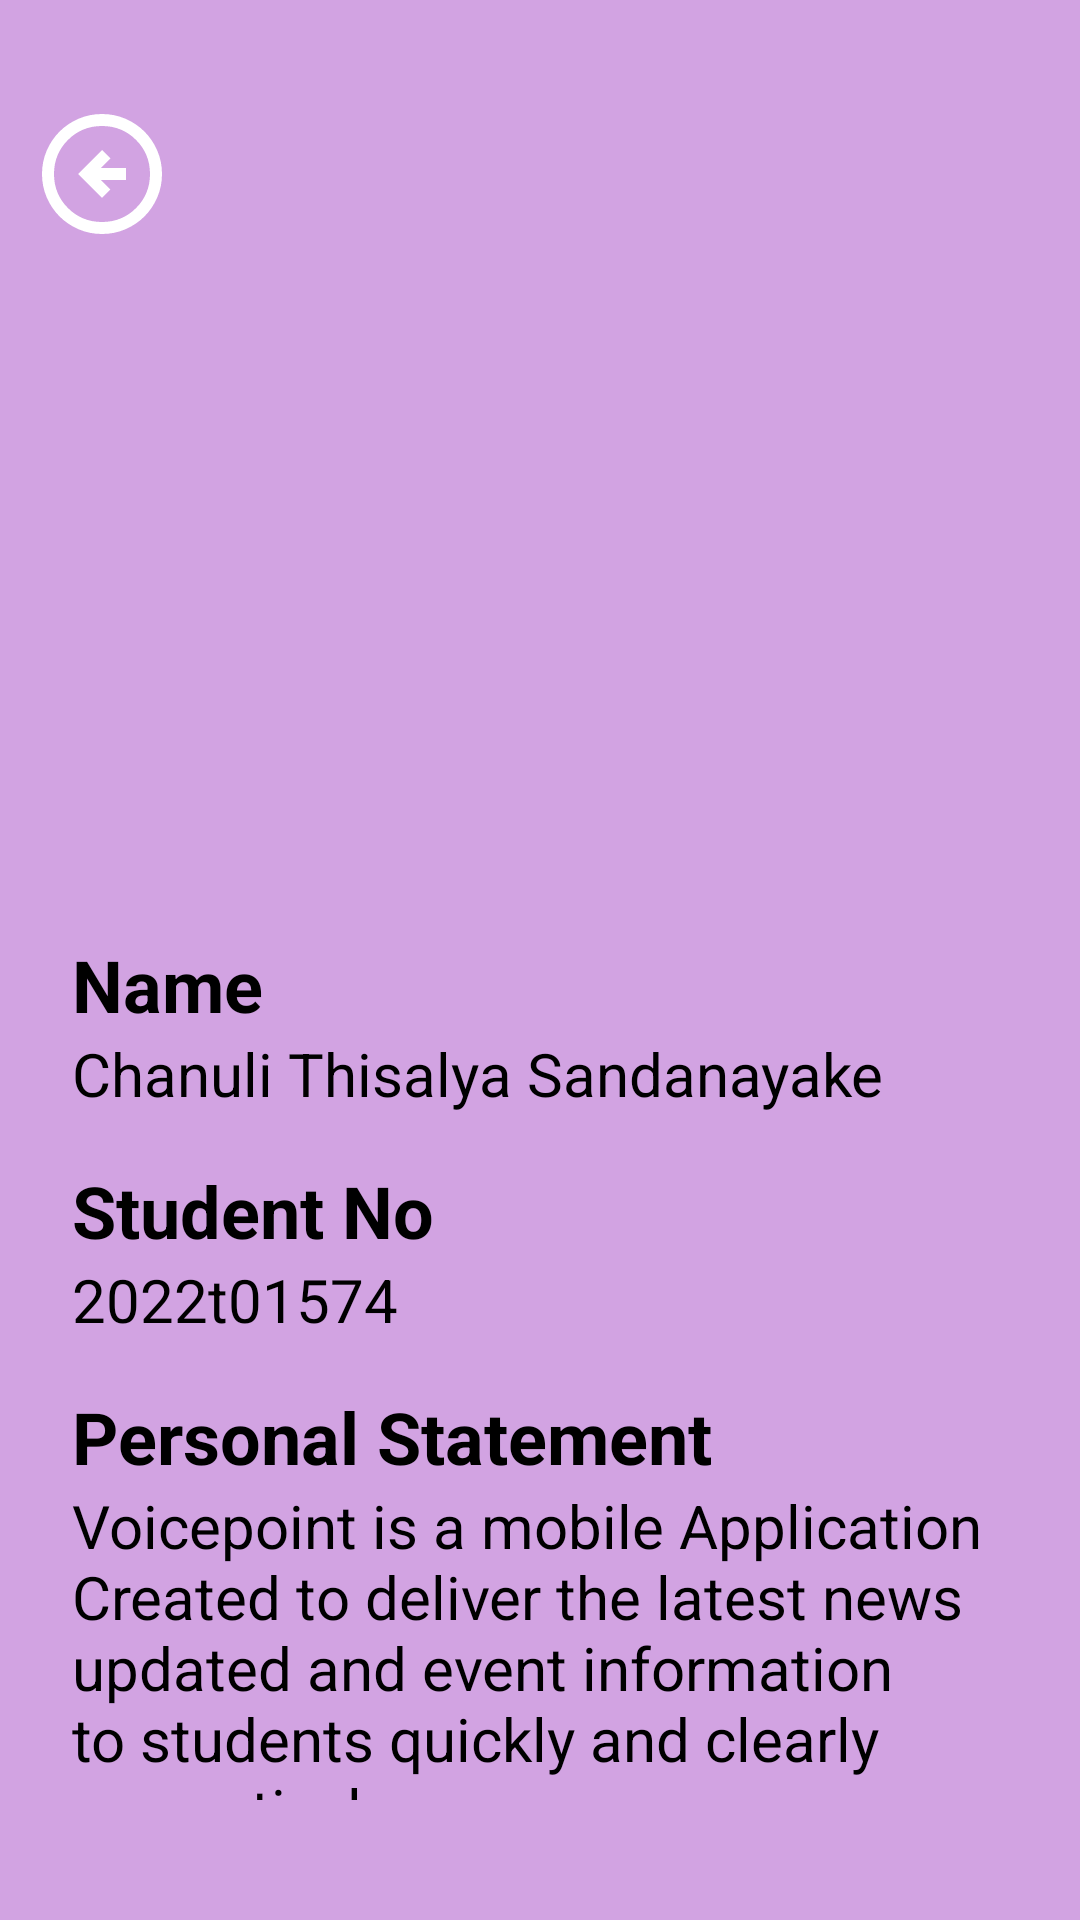

Where to tap for icons on this 1080px x 1920px app screen, as point (x, y):
Back: point (102, 174)
